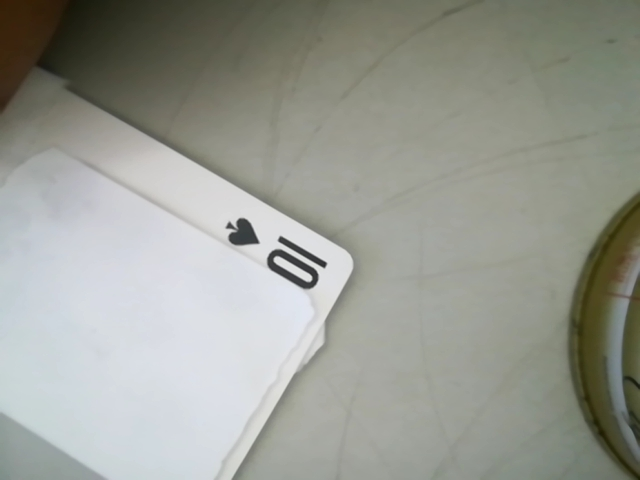ht 10: (217, 209, 343, 299)
